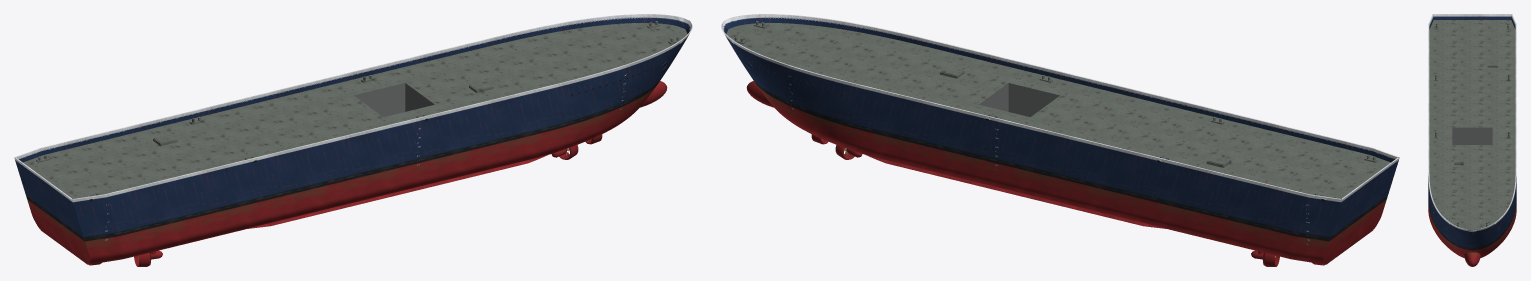
The model's file is casco.glb.
The picture shows the model from 3 angles, left to right: view 1: azimuth 30°, elevation 25°; view 2: azimuth 150°, elevation 25°; view 3: azimuth 270°, elevation 25°; orthographic projection. The views are drawn at different scales.
Parts seen in each view (by area): view 1: Casco, Conves; view 2: Casco, Conves; view 3: Conves, Casco.
Part boxes in pixels (box(x1,y1,x2,y2)): Casco: box(14, 14, 692, 266); Conves: box(23, 21, 687, 198); Casco: box(721, 14, 1399, 266); Conves: box(726, 21, 1390, 198); Conves: box(1429, 20, 1515, 230); Casco: box(1428, 14, 1516, 266).
Size of the model in its own units: 151 by 21.92 by 26.16.
Materials: 6 (2 with a texture image).
